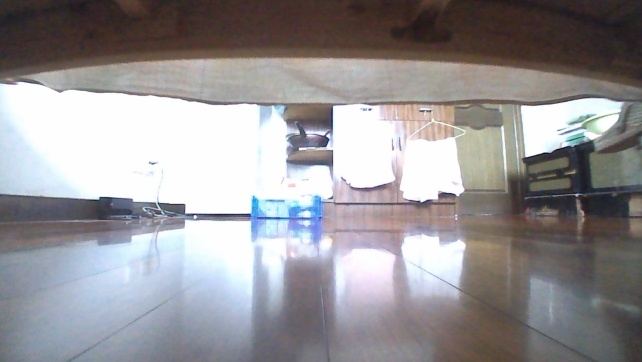door_anno: (451, 101, 529, 221)
wire: (131, 160, 185, 219)
